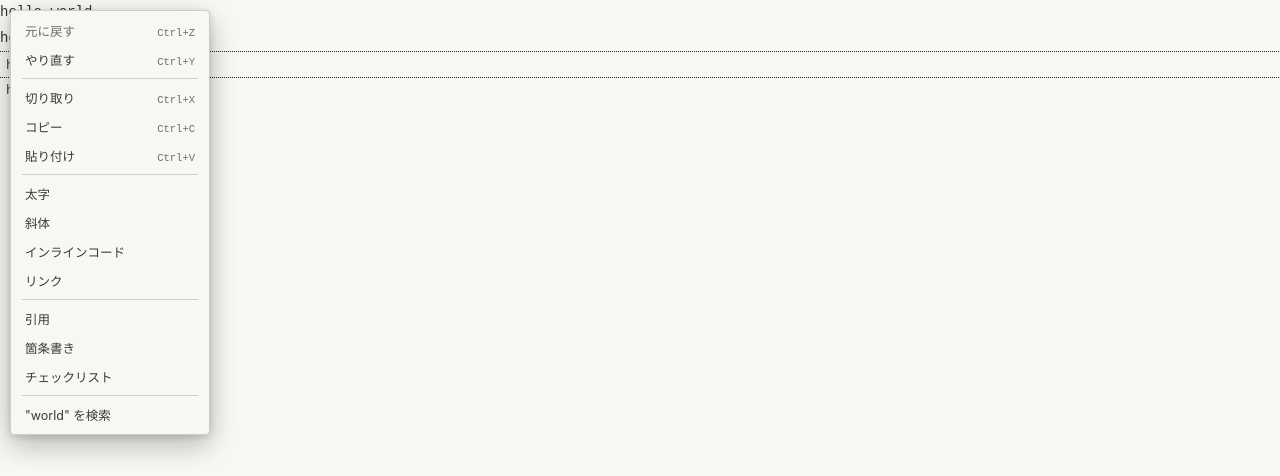
Scenario: EditorContextMenu › 引用を押すと行頭へ付ける
The width and height of the screenshot is (1280, 476).
Step 1. Click the menu item "引用" → click(110, 318), box top-left (16, 304), bottom-right (204, 333)
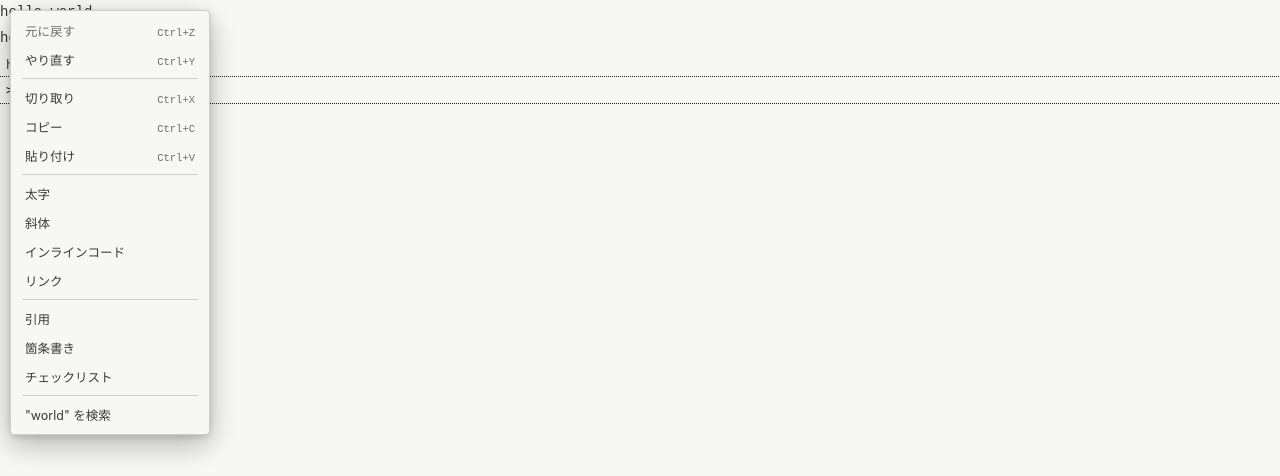
Check: the text box labelled "> hello world" is shown, box top-left (6, 82), bottom-right (104, 97)
